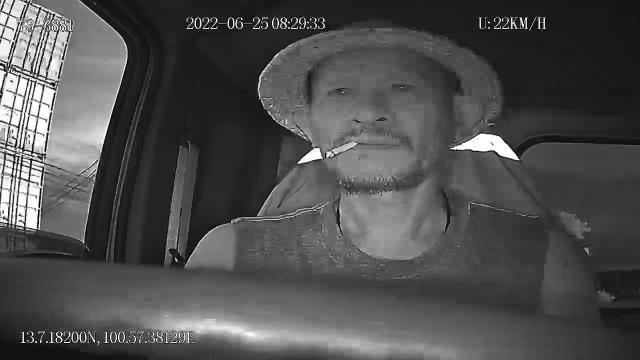SafeDriving: (384, 74, 421, 98), (324, 79, 359, 102)
Smoking: (325, 139, 357, 159)
